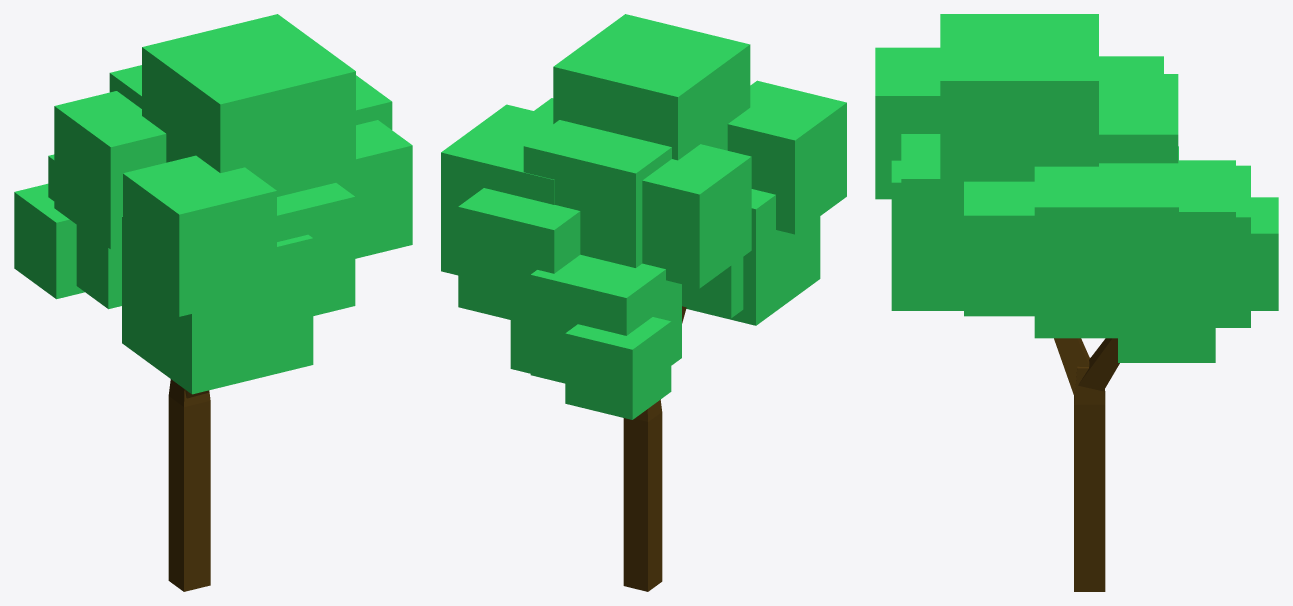
File: Tree02.fbx
3 renders of one model, left to right at view 1: azimuth 30°, elevation 25°; view 2: azimuth 150°, elevation 25°; view 3: azimuth 270°, elevation 25°, orthographic. The views are drawn at different scales.
Visible parts, largest first — view 1: Cube; view 2: Cube; view 3: Cube.
Boxes of the visible parts, box(x1,y1,x2,y2) form: Cube: box(14, 14, 412, 591); Cube: box(441, 14, 846, 591); Cube: box(875, 14, 1278, 591).
Bounding box in the file's own units: 313 × 557 × 370.
